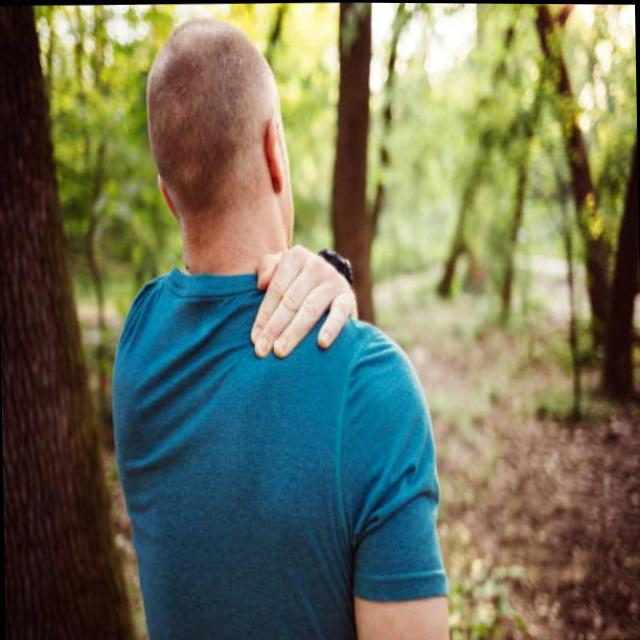no helmet: (146, 13, 294, 265)
